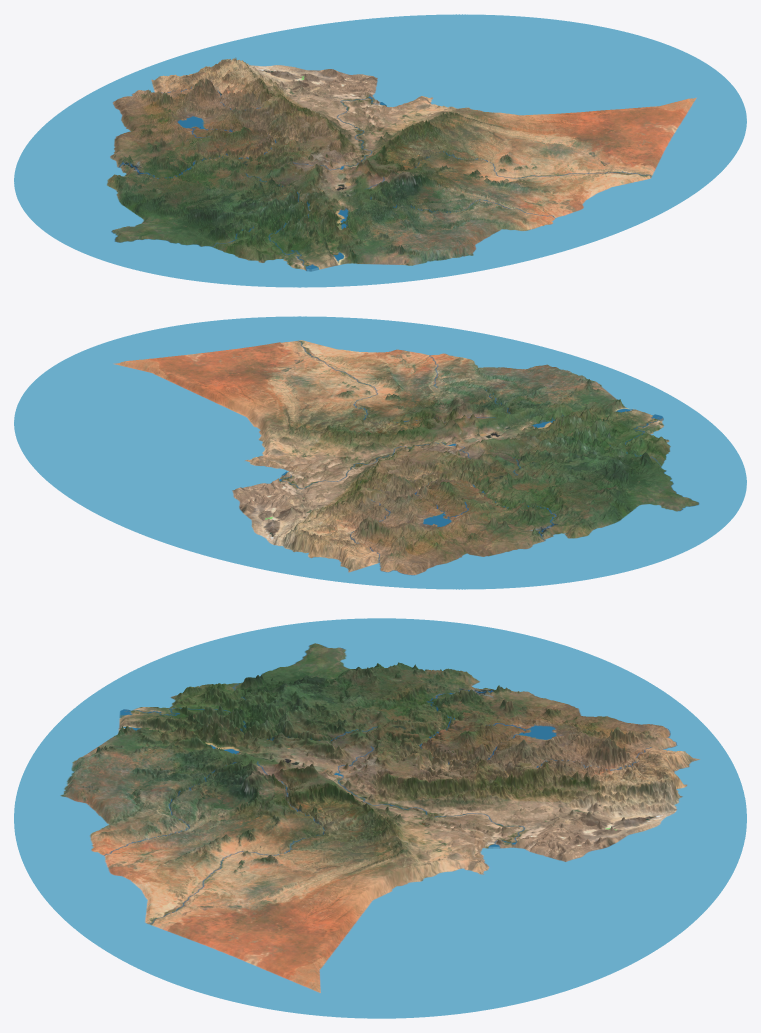
Rendered from ETH-previa-terrain.glb.
3 views of the same model, one above another, from view 1: azimuth 30°, elevation 25°; view 2: azimuth 150°, elevation 25°; view 3: azimuth 270°, elevation 25° (orthographic). The views are drawn at different scales.
Visible parts, largest first — view 1: Etiópia; view 2: Etiópia; view 3: Etiópia.
Part boxes in pixels (<box>): Etiópia: <box>14,14,746,287</box>; Etiópia: <box>14,316,746,589</box>; Etiópia: <box>14,618,746,1018</box>.
Bounding box in the file's own units: 2.02 × 0.0722 × 1.56.
1 material, 1 textured.
